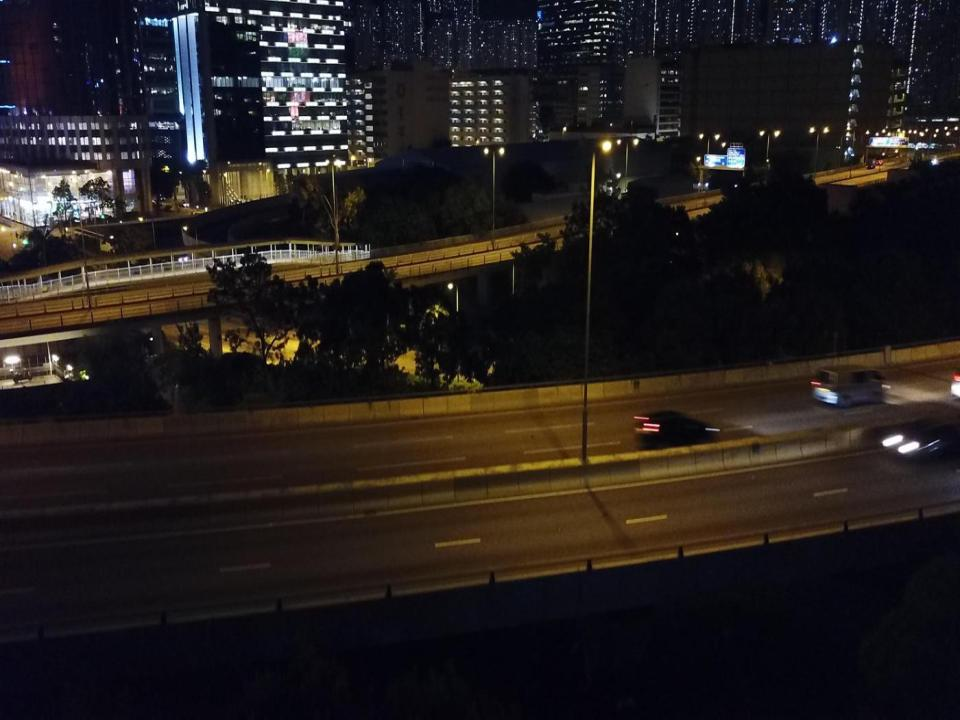car: (886, 420, 960, 466), (636, 411, 720, 449), (179, 201, 189, 207), (876, 159, 883, 165)
truck: (867, 159, 876, 169)
van: (813, 366, 890, 408), (164, 205, 174, 212)
